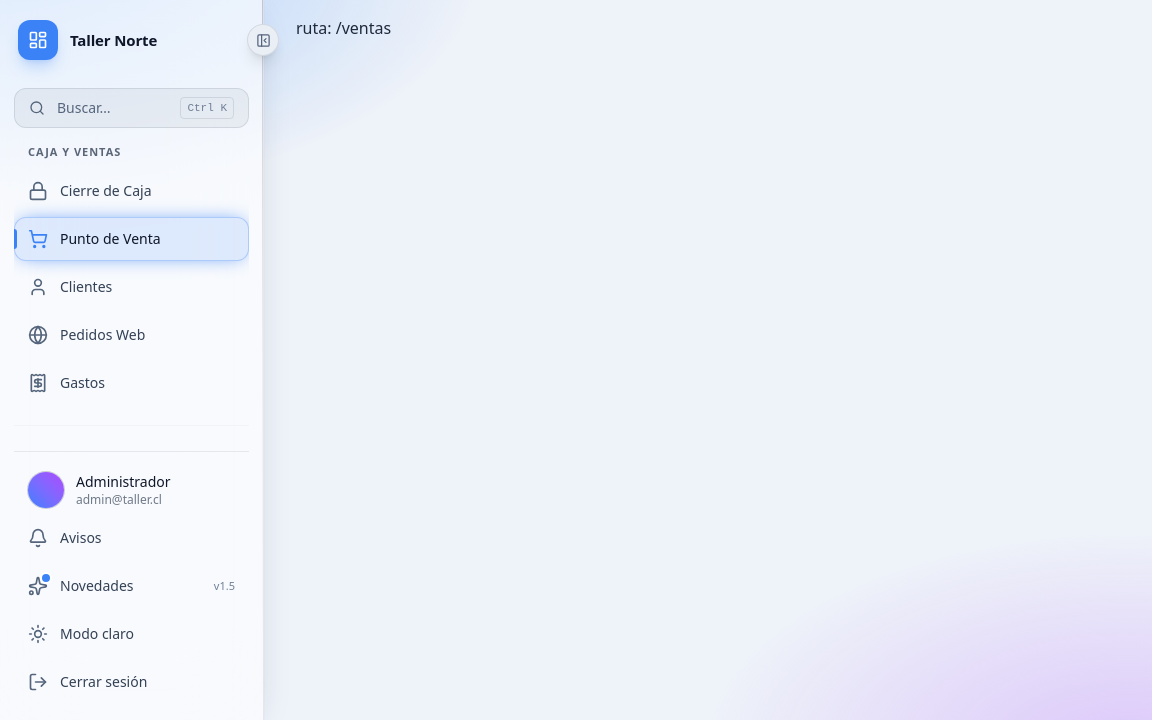
Layout › plegar menú persiste en localStorage
The image size is (1152, 720).
Click the button titled "Plegar menú" at (263, 40), box [247,24,279,56]
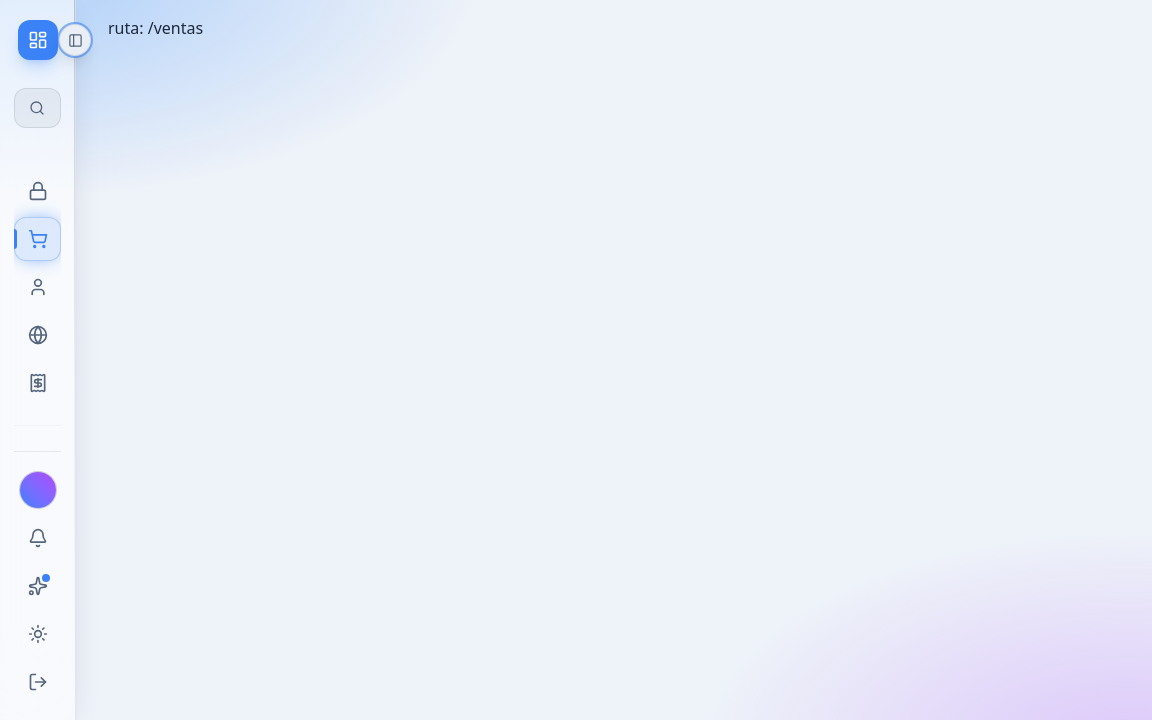
Check: the button titled "Expandir menú" is shown, box [59,24,91,56]
